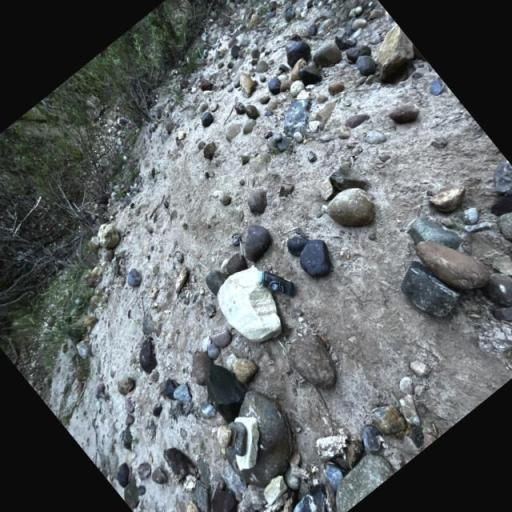bottle: (250, 258, 300, 309)
